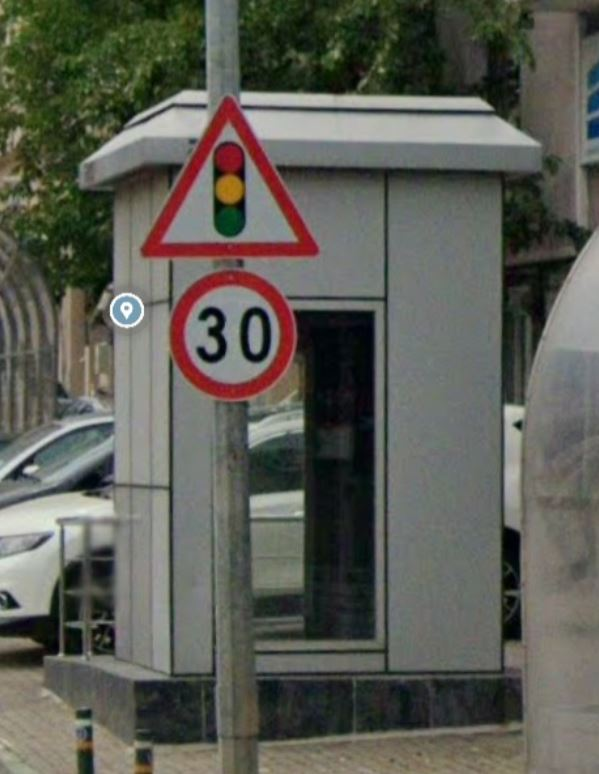30 Km Hiz Siniri: (170, 271, 301, 399)
Trafikisiklari: (140, 96, 325, 261)
